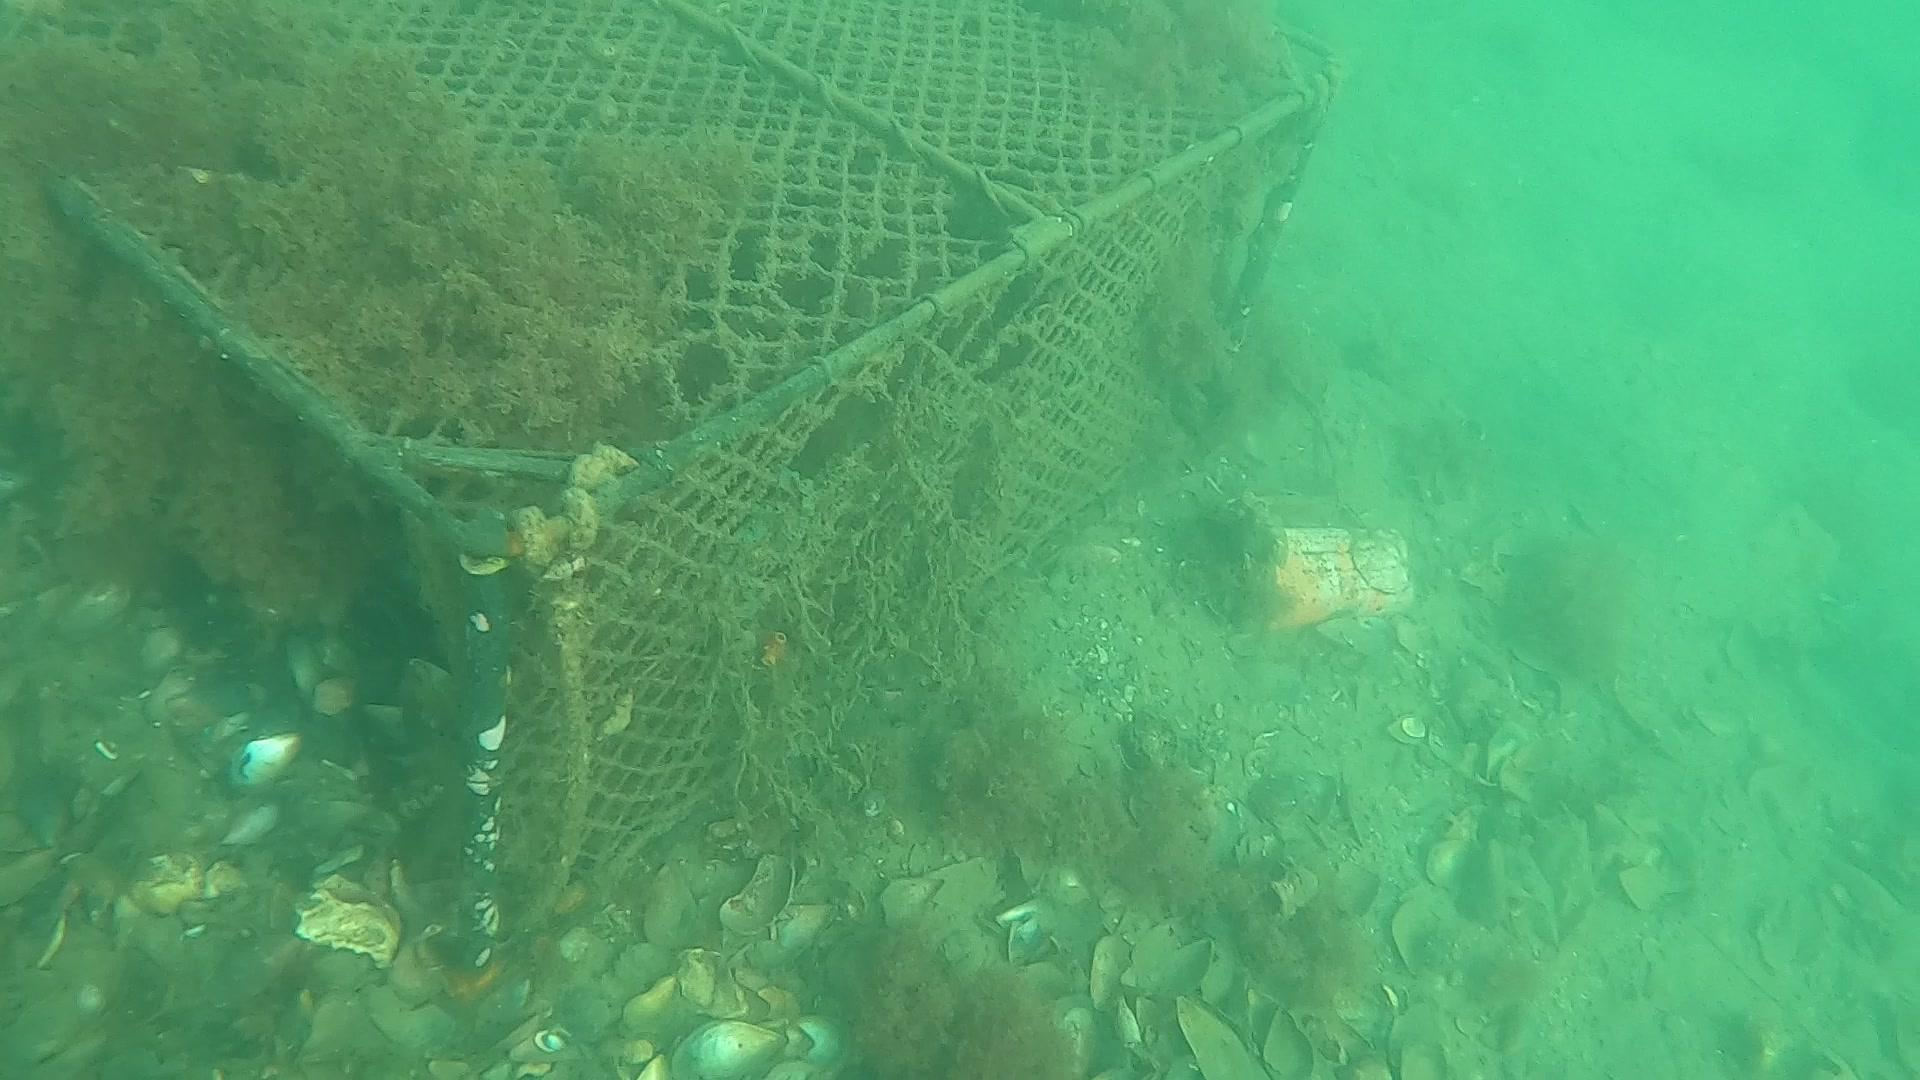rectangular fish trap: (0, 0, 1348, 1002)
